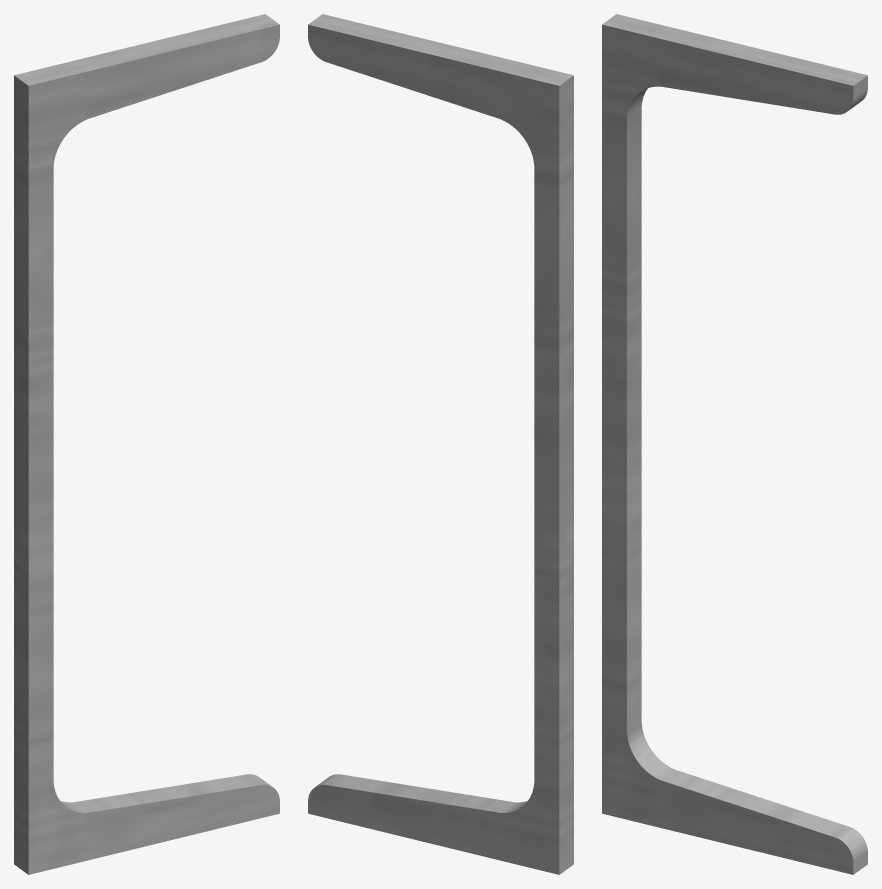
The model's file is UPN300.glb.
3 views of the same model, side by side, from view 1: azimuth 30°, elevation 25°; view 2: azimuth 150°, elevation 25°; view 3: azimuth 330°, elevation 25° (orthographic).
Size of the model in its own units: 10 by 30 by 1.
1 material, 1 textured.
